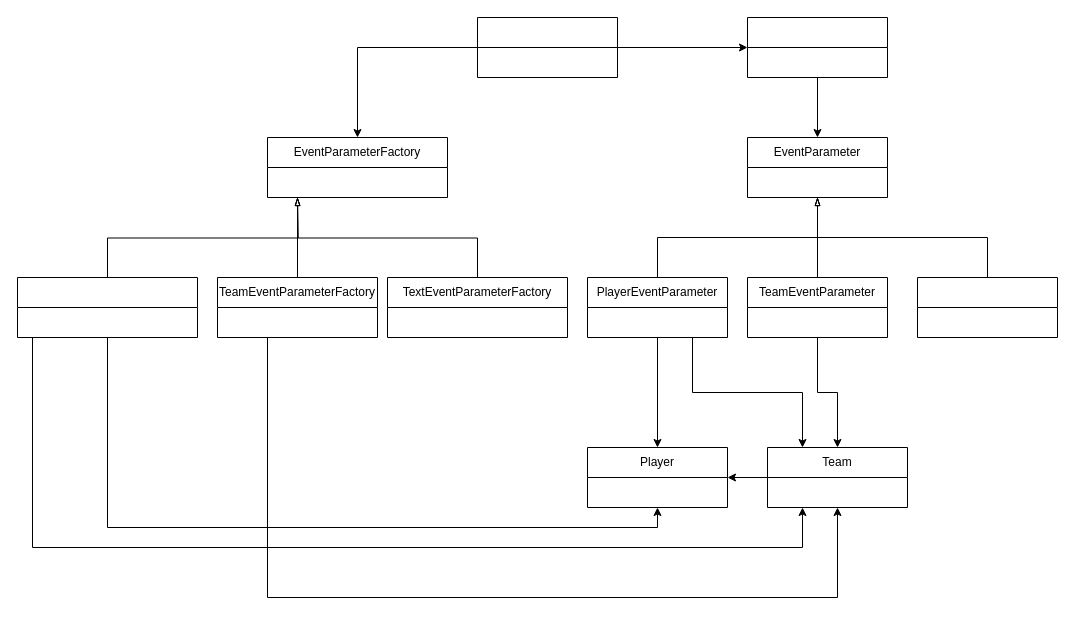
The diagram is 1075 pixels wide and 623 high, and some of its shapes have lost their labels. Each missing label, with the centre of its shape:
Event: the point at 817,47
EventFactory: the point at 547,47
PlayerEventParameterFactory: the point at 107,307
TextEventParameter: the point at 987,307
